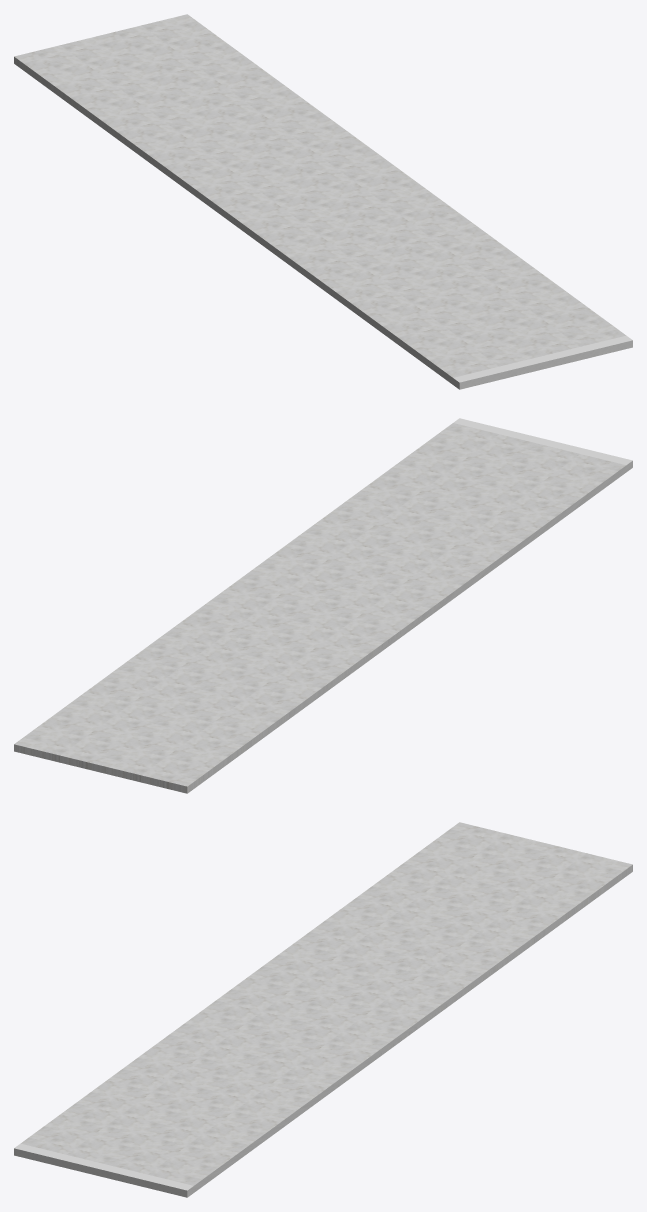
The model's file is Floor1.fbx.
3 renders of one model, top to bottom at view 1: azimuth 30°, elevation 25°; view 2: azimuth 150°, elevation 25°; view 3: azimuth 330°, elevation 25°, orthographic.
Visible parts, largest first — view 1: Kitchen_Floor.001; view 2: Kitchen_Floor.001; view 3: Kitchen_Floor.001.
Part boxes in pixels (<box>): Kitchen_Floor.001: <box>14,14,632,389</box>; Kitchen_Floor.001: <box>14,418,632,793</box>; Kitchen_Floor.001: <box>14,822,632,1197</box>.
Size of the model in its own units: 380 by 15 by 1691.
Materials: 3 (2 with a texture image).
